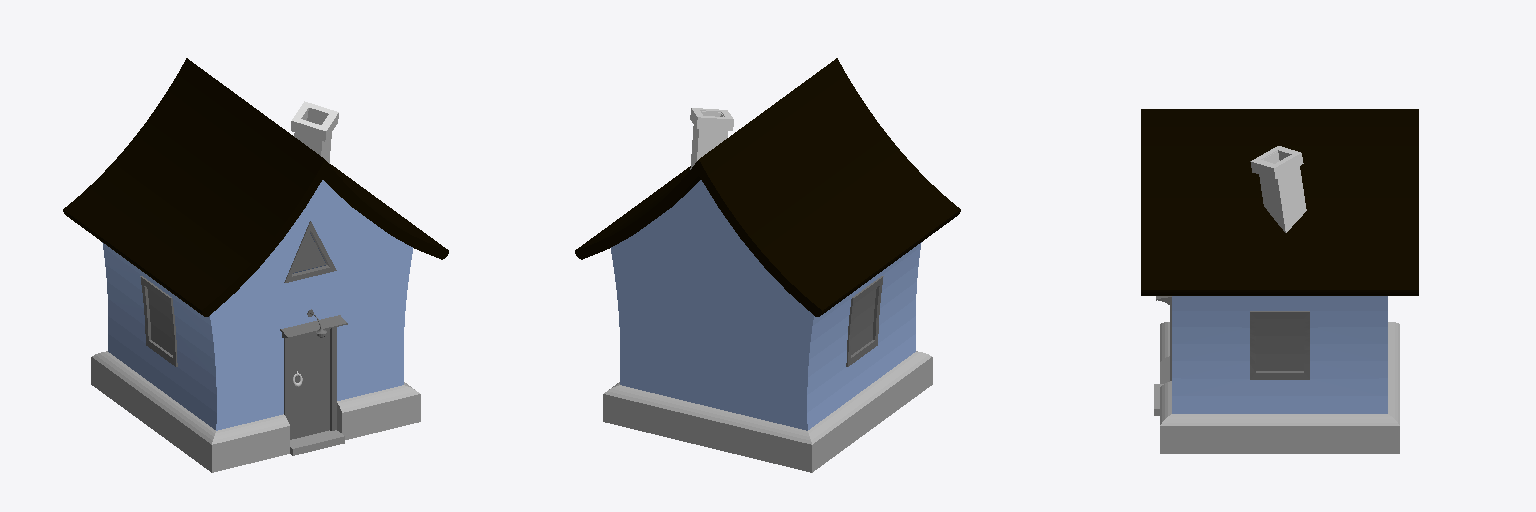
3 renders of one model, left to right at view 1: azimuth 30°, elevation 25°; view 2: azimuth 150°, elevation 25°; view 3: azimuth 270°, elevation 25°, orthographic.
Visible parts, largest first — view 1: Furniture_Systems_<Furniture_Systems_1_:_Furniture_Systems__Mesh, Walls_<Basic_Wall_:_norma_duvar_:_>.002_Mesh.016, Walls_<Basic_Wall_:_Deneme_:_>.001_Mesh.018, Furniture_Systems_<Furniture_Systems_2_:_Furniture_Systems_.002_, Furniture_Systems_<baca_:_baca>.001_Mesh, Furniture_Systems_<Furniture_Systems_2_:_Furniture_Systems_.003_, Furniture_Systems_<yancam_:_yancam>.002_Mesh.008, Furniture_Systems_<yancam_:_yancam>.001_Mesh.007, Furniture_Systems_<onpencere_:_onpencere>.002_Mesh.006, Furniture_Systems_<giris1_:_giris1>.001_Mesh.011, Furniture_Systems_<Furniture_Systems_3_:_Furniture_Systems_.001_, Furniture_Systems_<onpencere_:_onpencere>.001_Mesh.005; view 2: Walls_<Basic_Wall_:_norma_duvar_:_>.002_Mesh.016, Furniture_Systems_<Furniture_Systems_1_:_Furniture_Systems__Mesh, Walls_<Basic_Wall_:_Deneme_:_>.001_Mesh.018, Furniture_Systems_<baca_:_baca>.001_Mesh, Furniture_Systems_<yancam_:_yancam>.002_Mesh.008, Furniture_Systems_<yancam_:_yancam>.001_Mesh.007; view 3: Furniture_Systems_<Furniture_Systems_1_:_Furniture_Systems__Mesh, Walls_<Basic_Wall_:_norma_duvar_:_>.002_Mesh.016, Walls_<Basic_Wall_:_Deneme_:_>.001_Mesh.018, Furniture_Systems_<baca_:_baca>.001_Mesh, Furniture_Systems_<yancam_:_yancam>.001_Mesh.007, Furniture_Systems_<yancam_:_yancam>.002_Mesh.008.
Part boxes in pixels (bbox=[...]): Furniture_Systems_<Furniture_Systems_1_:_Furniture_Systems__Mesh: bbox=[63, 58, 448, 316]; Walls_<Basic_Wall_:_norma_duvar_:_>.002_Mesh.016: bbox=[102, 180, 412, 430]; Walls_<Basic_Wall_:_Deneme_:_>.001_Mesh.018: bbox=[91, 351, 420, 472]; Furniture_Systems_<Furniture_Systems_2_:_Furniture_Systems_.002_: bbox=[290, 329, 329, 439]; Furniture_Systems_<baca_:_baca>.001_Mesh: bbox=[291, 101, 338, 163]; Furniture_Systems_<Furniture_Systems_2_:_Furniture_Systems_.003_: bbox=[284, 327, 336, 430]; Furniture_Systems_<yancam_:_yancam>.002_Mesh.008: bbox=[140, 276, 177, 366]; Furniture_Systems_<yancam_:_yancam>.001_Mesh.007: bbox=[147, 288, 172, 354]; Furniture_Systems_<onpencere_:_onpencere>.002_Mesh.006: bbox=[284, 221, 336, 282]; Furniture_Systems_<giris1_:_giris1>.001_Mesh.011: bbox=[290, 430, 344, 455]; Furniture_Systems_<Furniture_Systems_3_:_Furniture_Systems_.001_: bbox=[280, 315, 347, 338]; Furniture_Systems_<onpencere_:_onpencere>.001_Mesh.005: bbox=[293, 233, 326, 272]; Walls_<Basic_Wall_:_norma_duvar_:_>.002_Mesh.016: bbox=[611, 180, 921, 430]; Furniture_Systems_<Furniture_Systems_1_:_Furniture_Systems__Mesh: bbox=[575, 58, 960, 316]; Walls_<Basic_Wall_:_Deneme_:_>.001_Mesh.018: bbox=[603, 351, 932, 472]; Furniture_Systems_<baca_:_baca>.001_Mesh: bbox=[690, 108, 733, 169]; Furniture_Systems_<yancam_:_yancam>.002_Mesh.008: bbox=[846, 276, 883, 366]; Furniture_Systems_<yancam_:_yancam>.001_Mesh.007: bbox=[851, 288, 876, 354]; Furniture_Systems_<Furniture_Systems_1_:_Furniture_Systems__Mesh: bbox=[1141, 109, 1418, 295]; Walls_<Basic_Wall_:_norma_duvar_:_>.002_Mesh.016: bbox=[1172, 296, 1387, 413]; Walls_<Basic_Wall_:_Deneme_:_>.001_Mesh.018: bbox=[1160, 322, 1399, 453]; Furniture_Systems_<baca_:_baca>.001_Mesh: bbox=[1250, 146, 1306, 232]; Furniture_Systems_<yancam_:_yancam>.001_Mesh.007: bbox=[1256, 319, 1303, 370]; Furniture_Systems_<yancam_:_yancam>.002_Mesh.008: bbox=[1250, 311, 1309, 379].
Bounding box in the file's own units: 90.5 × 103 × 87.8.